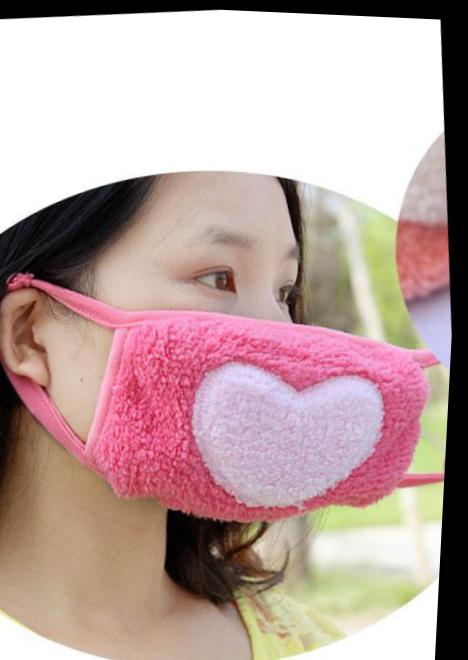WRONG: (59, 203, 383, 525)
